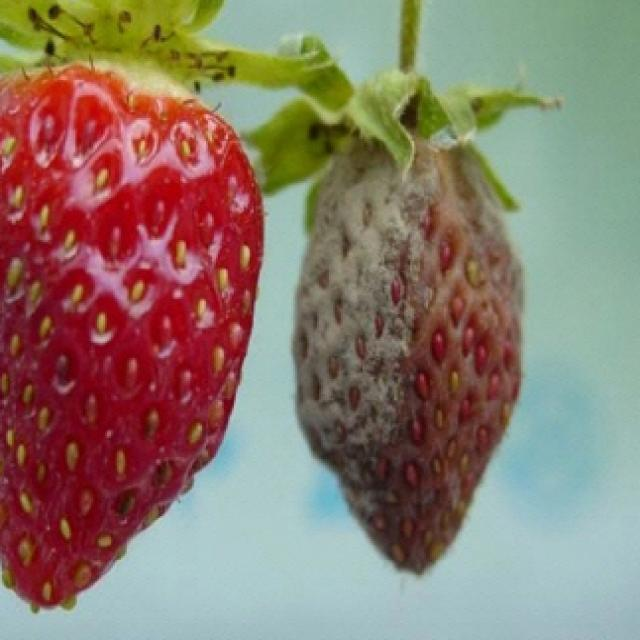Gray Mold: (289, 126, 527, 577)
